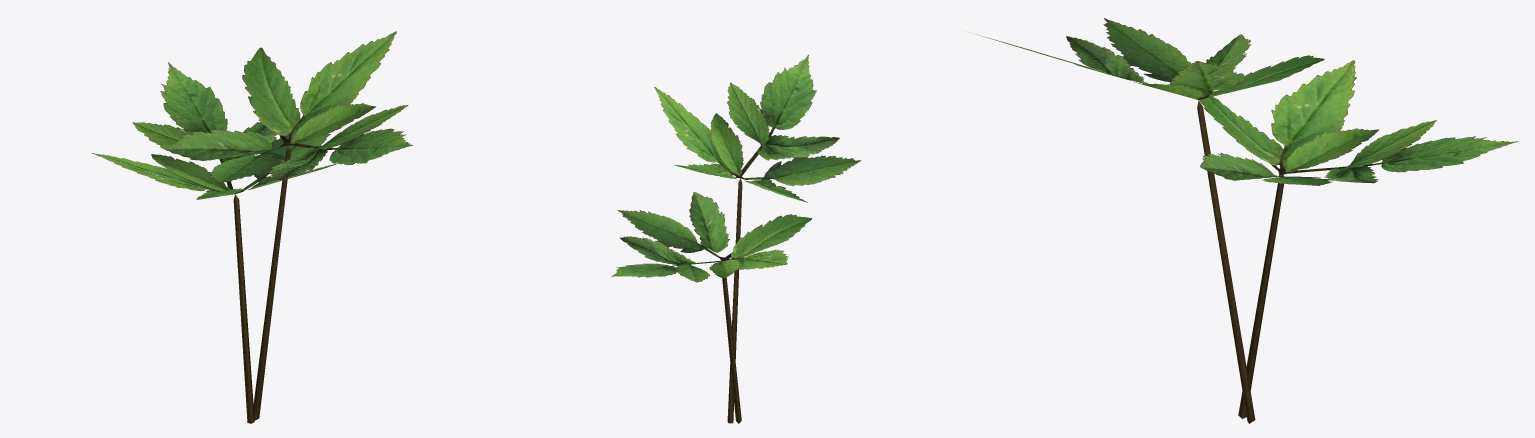
File: MK4_Trop_Plant8.DAE
3 renders of one model, left to right at view 1: azimuth 30°, elevation 25°; view 2: azimuth 150°, elevation 25°; view 3: azimuth 270°, elevation 25°, orthographic. The views are drawn at different scales.
Parts seen in each view (by area): view 1: Mk4_Trop_Plant8; view 2: Mk4_Trop_Plant8; view 3: Mk4_Trop_Plant8.
Boxes of the visible parts, x1,y1,x2,y2 form: Mk4_Trop_Plant8: (92,31,413,423); Mk4_Trop_Plant8: (611,55,861,423); Mk4_Trop_Plant8: (970,18,1518,423).
Bounding box in the file's own units: 0.7157 × 1.07 × 0.8924.
